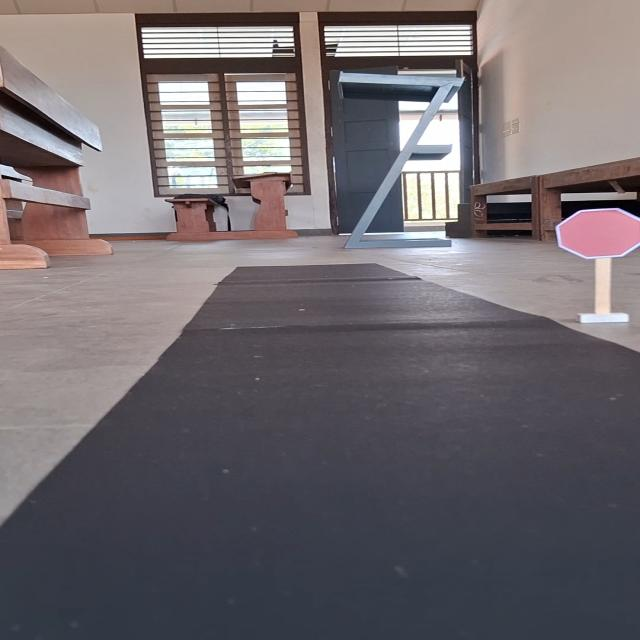Stop: (551, 204, 640, 266)
